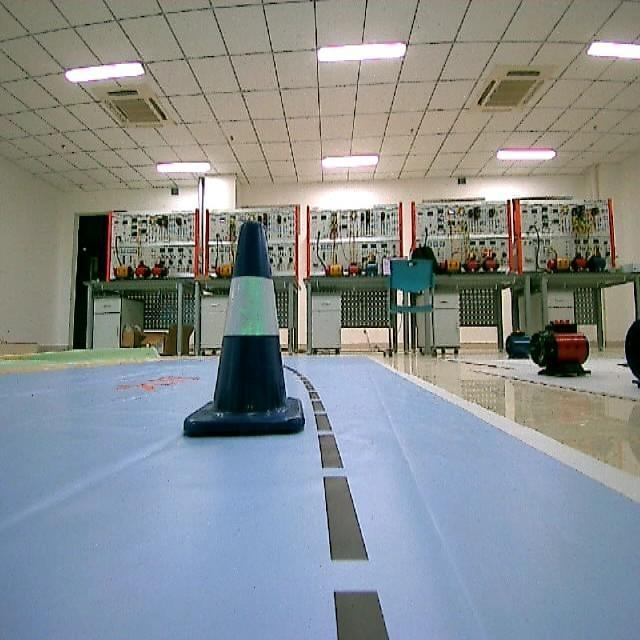obstacle: (179, 215, 308, 450)
